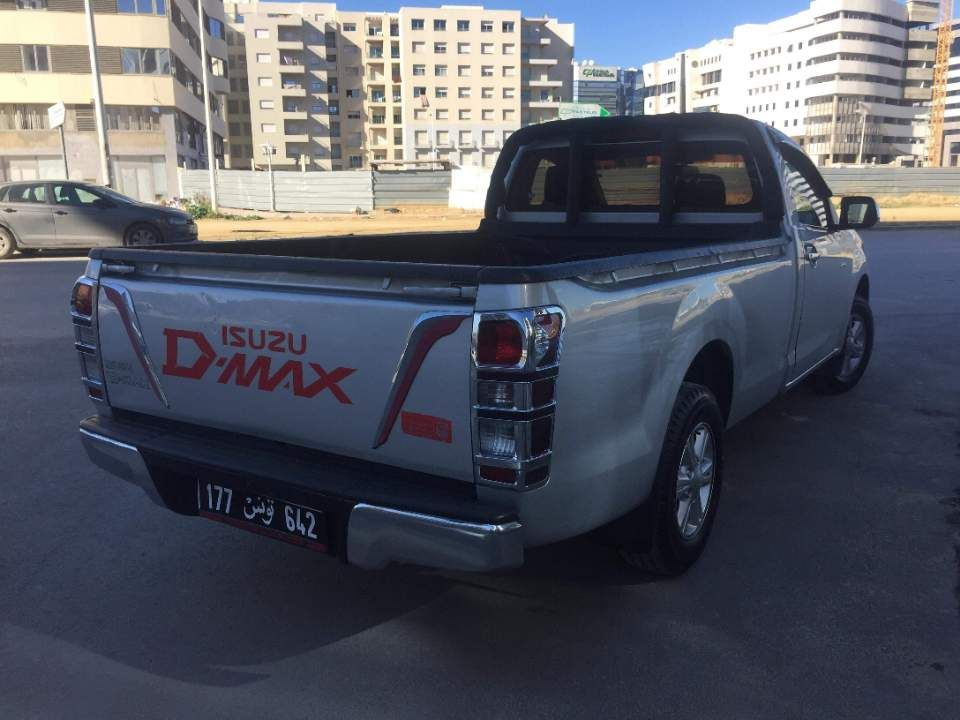LP: (196, 477, 323, 539)
